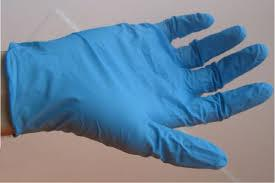Glove: (6, 14, 272, 168)
